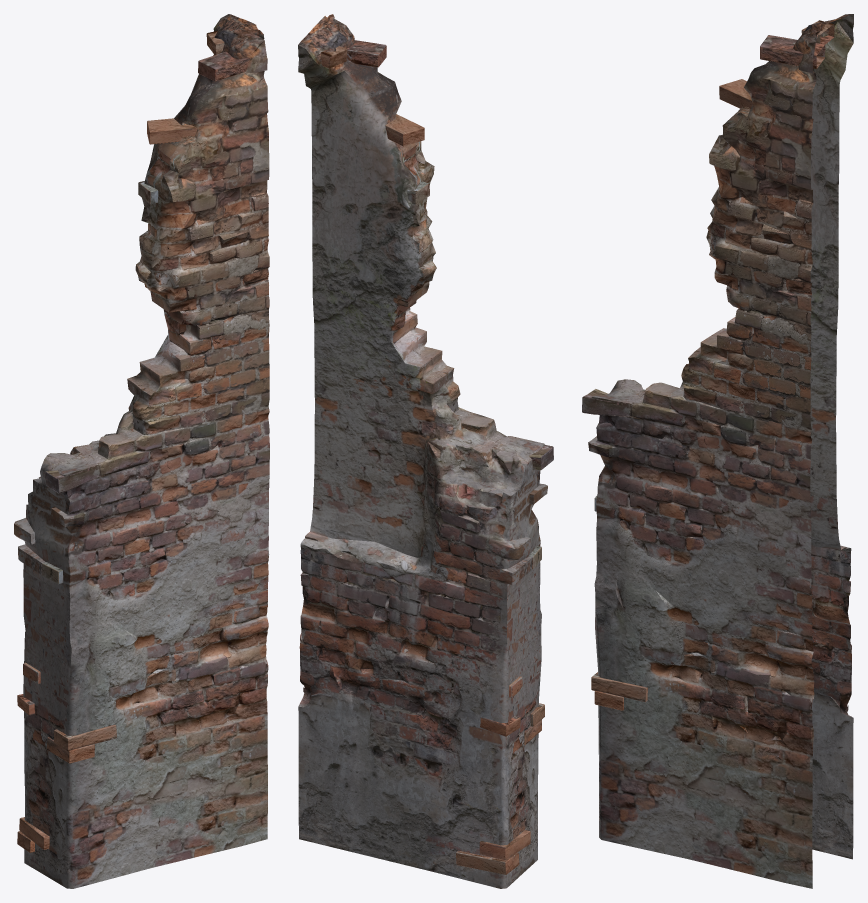
Rendered from SM_ChapelWall_01_11.fbx.
The picture shows the model from 3 angles, left to right: view 1: azimuth 30°, elevation 25°; view 2: azimuth 150°, elevation 25°; view 3: azimuth 330°, elevation 25°; orthographic projection. The views are drawn at different scales.
Parts seen in each view (by area): view 1: sm_ChapelWall_01_11_LOD0; view 2: sm_ChapelWall_01_11_LOD0; view 3: sm_ChapelWall_01_11_LOD0.
Boxes of the visible parts, x1=… form: sm_ChapelWall_01_11_LOD0: x1=14, y1=14, x2=269, y2=888; sm_ChapelWall_01_11_LOD0: x1=298, y1=14, x2=553, y2=888; sm_ChapelWall_01_11_LOD0: x1=582, y1=14, x2=853, y2=888.
Size of the model in its own units: 53.24 by 147 by 518.
